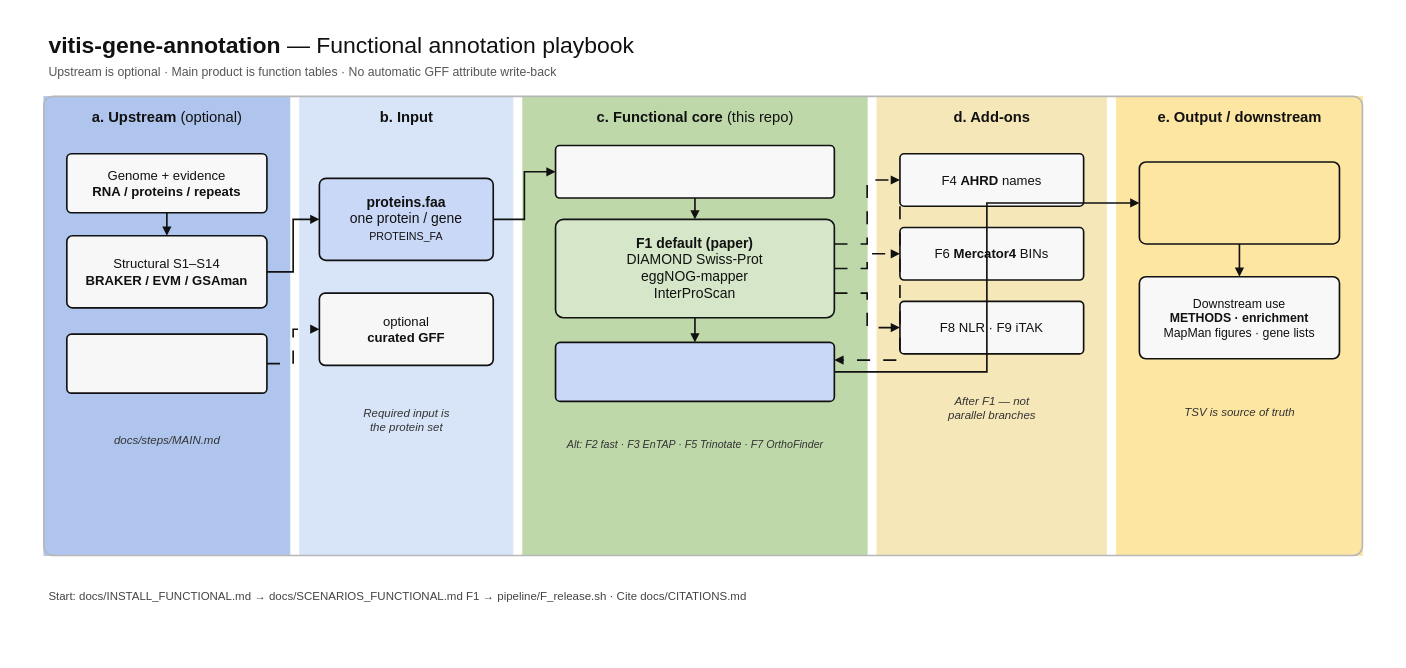
This 1406x668 diagram has some shape labels left out. The shapes that lost their labels are listed below. From the top down, each one's centre as x and y in pixels, then its label:
At pixel 694 171: "F0 Protein QC — BUSCO".
At pixel 1239 202: "release/<TAG>/ functional_master.tsv proteins.faa · METHODS".
At pixel 166 363: "Or import external qualified GFF".
At pixel 694 371: "F_merge → functional_master.tsv".
